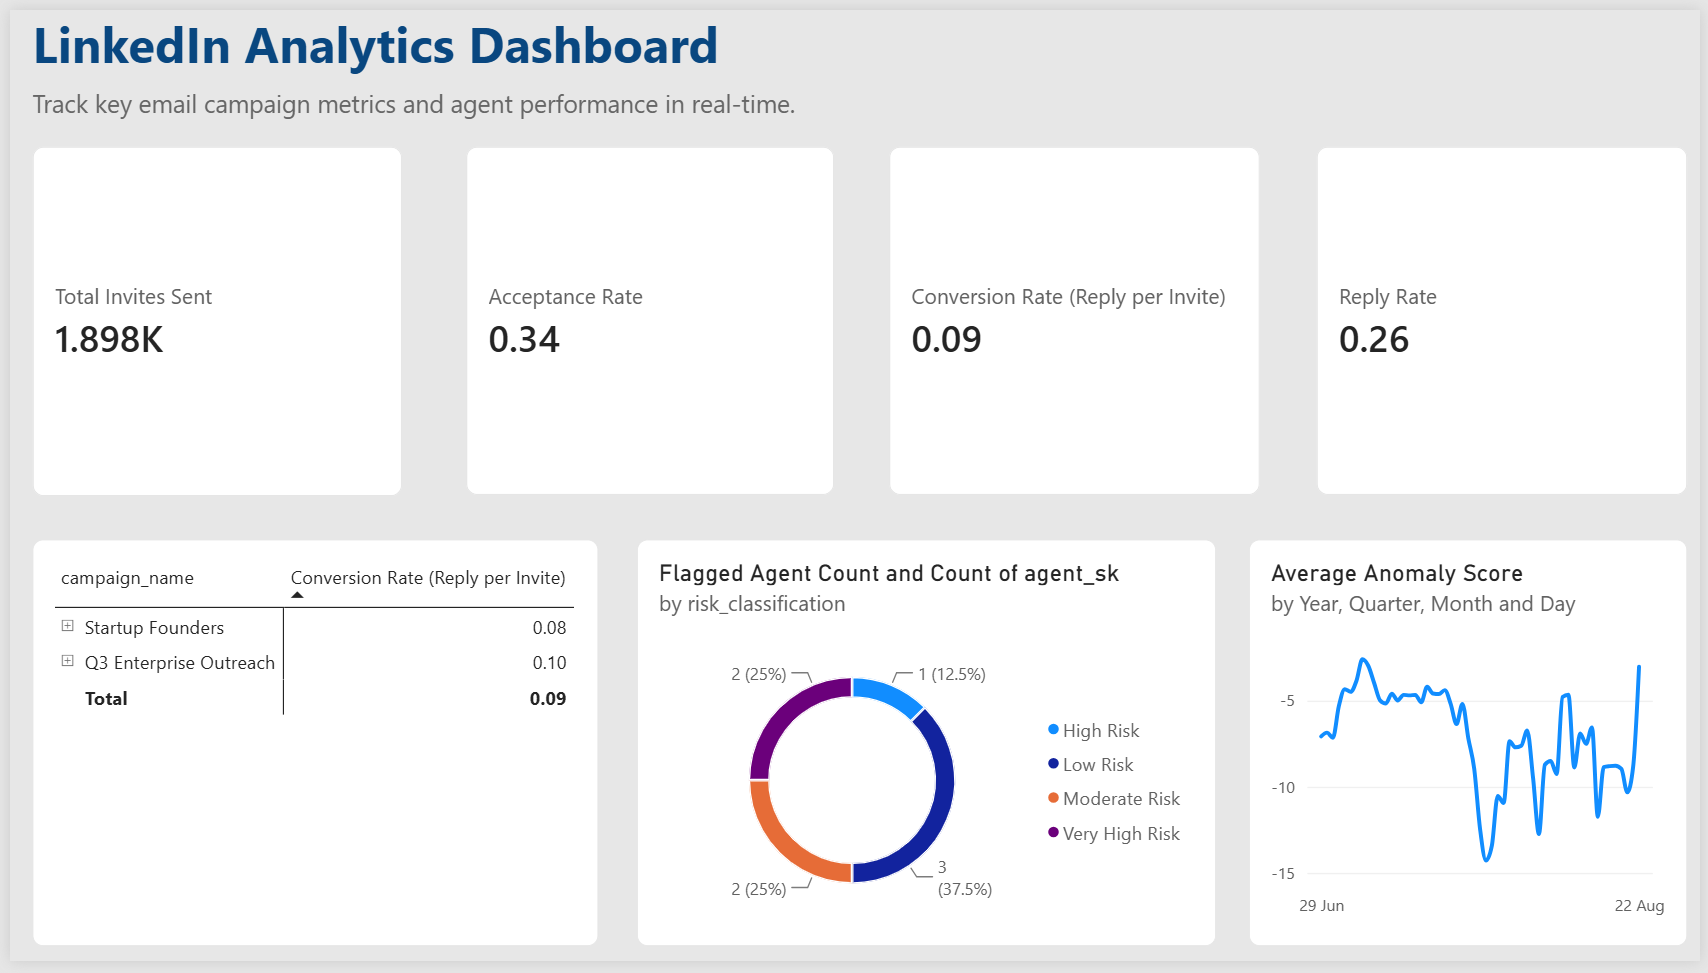

The page's visual inventory and layout, read from the dashboard file:
{"tool":"powerbi","page":{"name":"Page 1","canvas":[1280,720],"ordinal":0},"visuals":[{"type":"cardVisual","fields":{"Data":["_Measures.Total Invites Sent"]},"box":[17,103.4,280,265],"z":0},{"type":"cardVisual","fields":{"Data":["_Measures.Acceptance Rate"]},"box":[345.5,103.4,279.7,264.9],"z":1000},{"type":"cardVisual","fields":{"Data":["_Measures.Reply Rate"]},"box":[989.8,103.4,281.1,264.9],"z":2000},{"type":"cardVisual","fields":{"Data":["_Measures.Conversion Rate (Reply per Invite)"]},"box":[665.9,103.4,281.1,264.9],"z":3000},{"type":"donutChart","fields":{"Category":["dim_agent.risk_classification"],"Y":["_Measures.Flagged Agent Count","CountNonNull(dim_agent.agent_sk)"]},"box":[475,401.1,438.6,308],"z":4000},{"type":"lineChart","fields":{"Category":["dim_date.full_date.Variation.Date Hierarchy.Year","dim_date.full_date.Variation.Date Hierarchy.Quarter","dim_date.full_date.Variation.Date Hierarchy.Month","dim_date.full_date.Variation.Date Hierarchy.Day"],"Y":["_Measures.Average Anomaly Score"]},"box":[938.6,401.1,331.8,308],"z":5000},{"type":"pivotTable","fields":{"Rows":["dim_campaign.campaign_name","dim_lead.segment"],"Values":["_Measures.Conversion Rate (Reply per Invite)"]},"box":[17,401.1,428.4,308],"z":6000},{"type":"textbox","box":[17,0,821.6,58],"z":6001},{"type":"textbox","box":[17,58,588.6,35.2],"z":6002}]}

Visuals, with their boxes in screenshot pixels (x1, y1, x2, y2), scaled from the page's 1280x720 canvas onto the 1708x973 screenshot:
cardVisual - _Measures.Total Invites Sent: 23:140:396:498
cardVisual - _Measures.Acceptance Rate: 461:140:834:498
cardVisual - _Measures.Reply Rate: 1321:140:1696:498
cardVisual - _Measures.Conversion Rate (Reply per Invite): 889:140:1264:498
donutChart - dim_agent.risk_classification x _Measures.Flagged Agent Count: 634:542:1219:958
lineChart - dim_date.full_date.Variation.Date Hierarchy.Year x dim_date.full_date.Variation.Date Hierarchy.Quarter: 1252:542:1695:958
pivotTable - dim_campaign.campaign_name x dim_lead.segment: 23:542:594:958
textbox: 23:0:1119:78
textbox: 23:78:808:126
